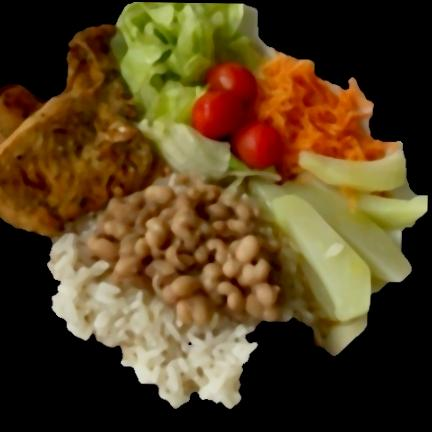beans: (87, 179, 280, 323)
carrot: (249, 53, 397, 179)
chicken: (0, 24, 170, 236)
green_vegetables: (252, 149, 428, 353)
rice: (49, 217, 257, 408)
salad: (115, 2, 260, 173)
tomato: (192, 63, 282, 169)
